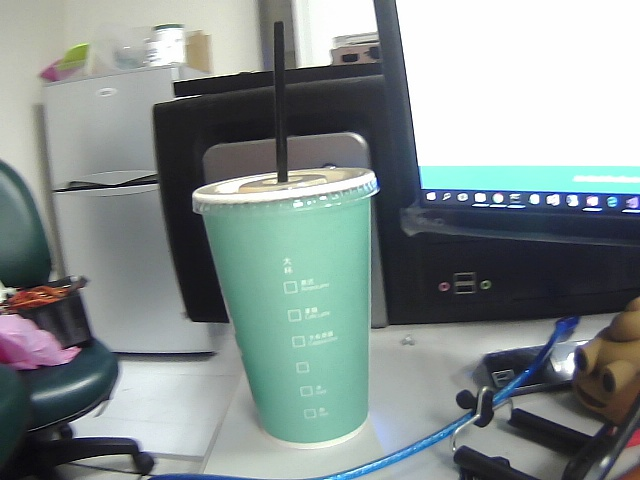beverage: (188, 14, 418, 457)
